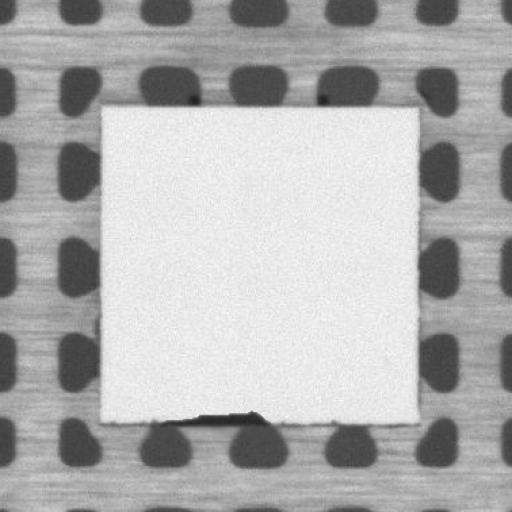DIE_BROKEN: (154, 402, 275, 427)
